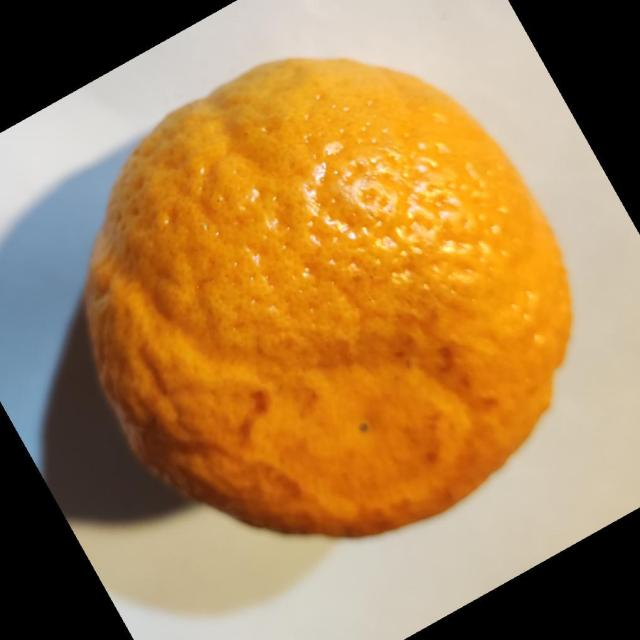fresh orange: (83, 56, 573, 538)
